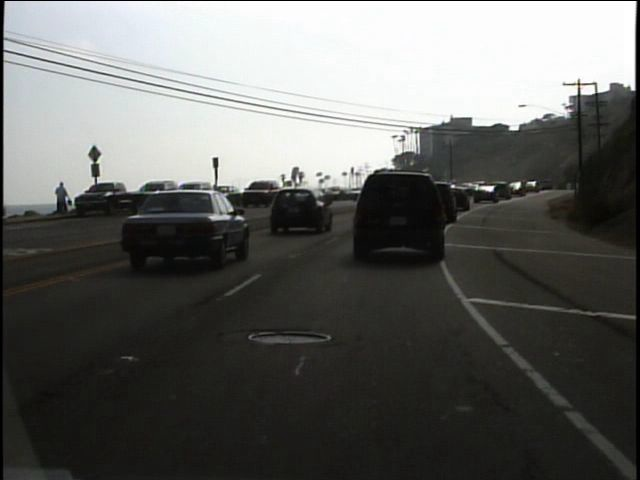person: (53, 178, 74, 219)
